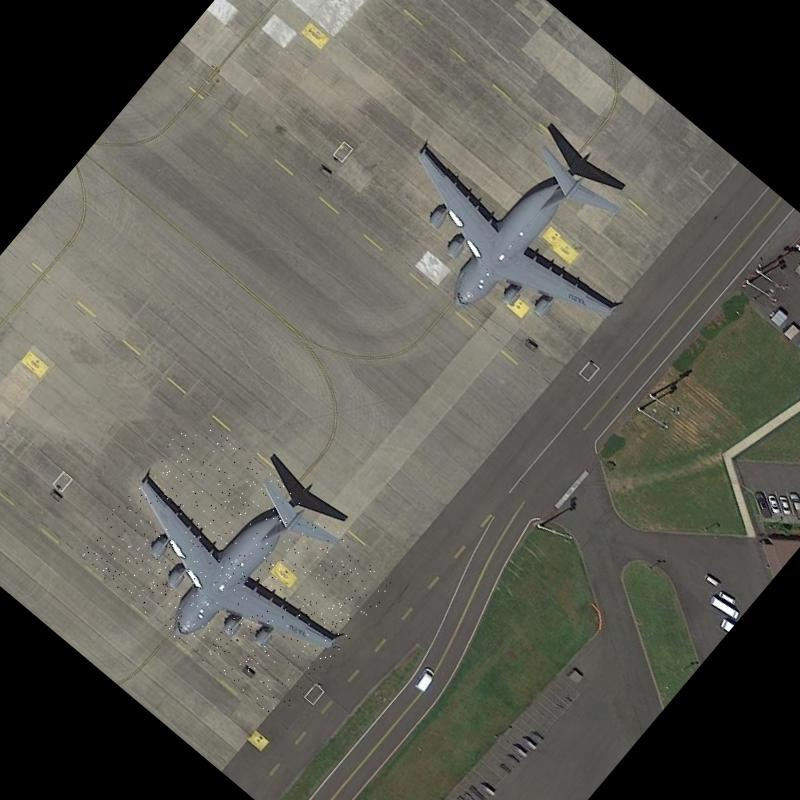A3: (354, 71, 682, 392), (75, 410, 398, 724)
